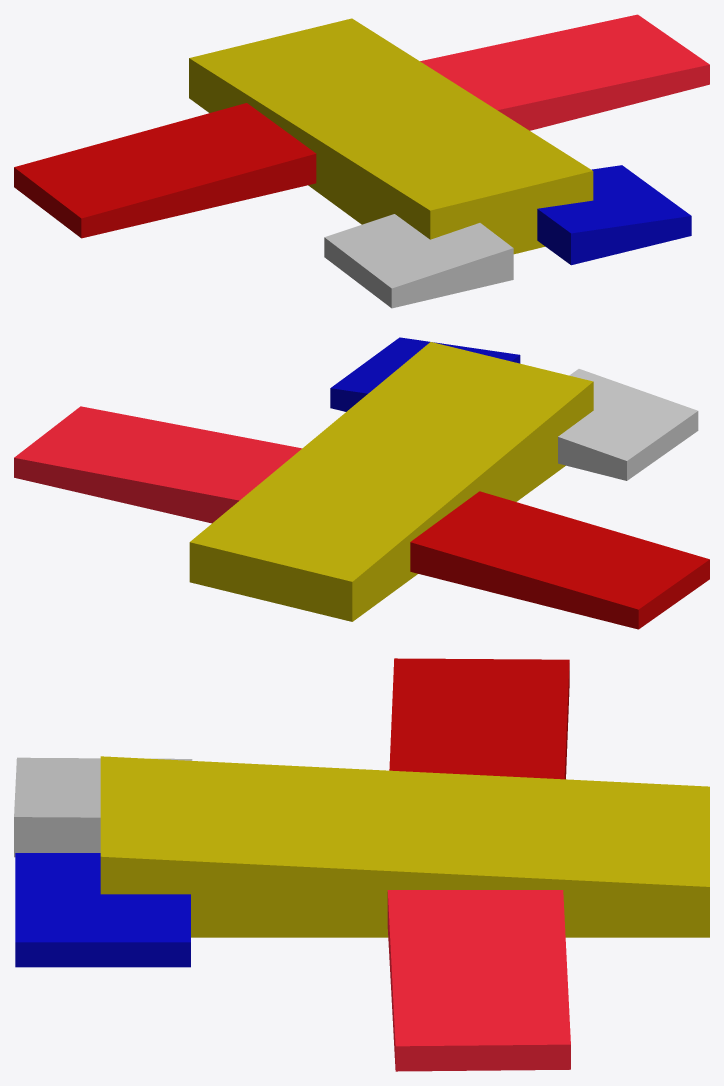
Rendered from player.obj.
The picture shows the model from 3 angles, top to bottom: view 1: azimuth 30°, elevation 25°; view 2: azimuth 150°, elevation 25°; view 3: azimuth 270°, elevation 25°; orthographic projection. The views are drawn at different scales.
Parts seen in each view (by area): view 1: 立方体.001; view 2: 立方体.001; view 3: 立方体.001.
Part boxes in pixels (bbox=[...]): 立方体.001: bbox=[14, 14, 709, 308]; 立方体.001: bbox=[14, 337, 709, 629]; 立方体.001: bbox=[14, 658, 709, 1071].
Size of the model in its own units: 3.01 by 0.2934 by 2.28.
Materials: 5 (1 with a texture image).
